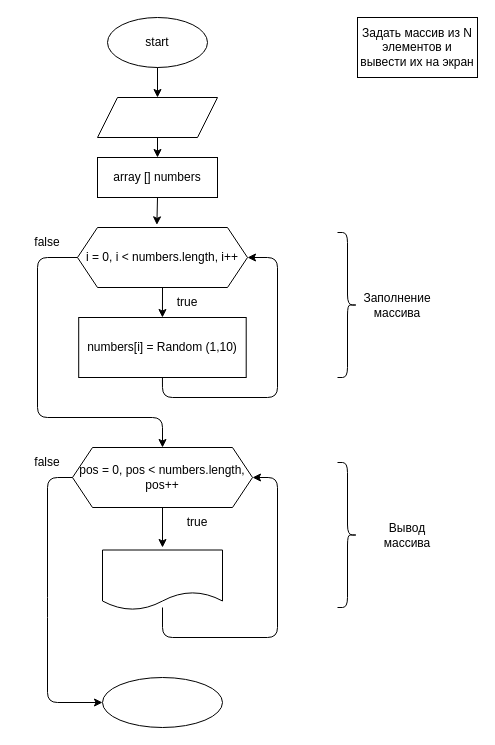
The diagram is 495 pixels wide and 745 high, and some of its shapes have lost their labels. Each missing label, with the centre of its shape:
"finish" goes at point 162,702.
"numberN" goes at point 157,117.
"Write {num{pos}}" goes at point 162,579.
